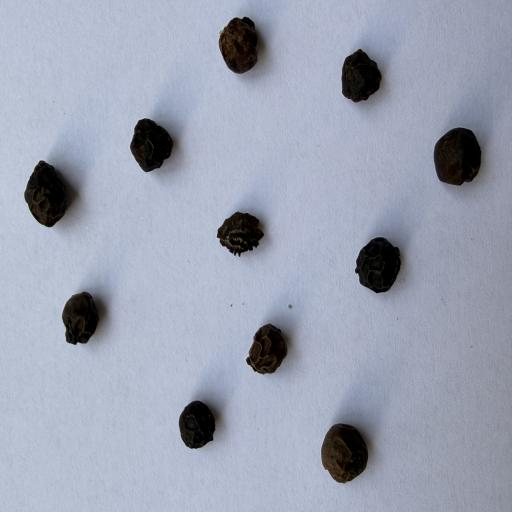Black_pepper: (14, 154, 79, 246), (423, 118, 493, 200), (316, 410, 378, 495), (119, 116, 185, 188), (350, 231, 410, 310), (54, 278, 112, 351), (336, 41, 393, 113), (240, 319, 304, 381), (172, 392, 226, 461), (218, 10, 270, 74)
papaya_seed: (216, 202, 274, 266)
